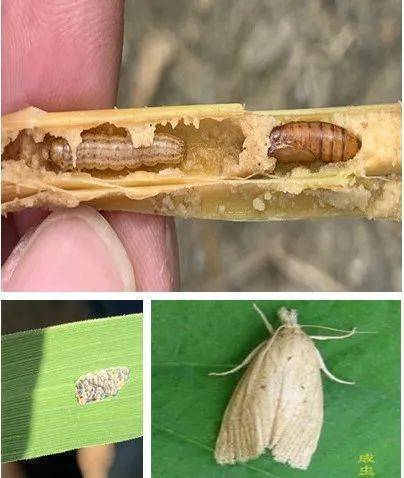Crambidae: (211, 302, 374, 468)
